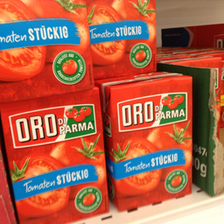tomato_sauce: (1, 89, 110, 224), (97, 72, 194, 213), (1, 1, 94, 102), (88, 1, 158, 80)
